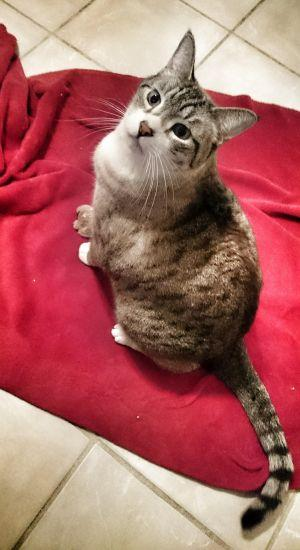bengal: (107, 18, 263, 189)
